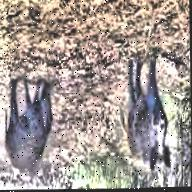boar: (117, 52, 172, 173), (1, 78, 54, 173)
